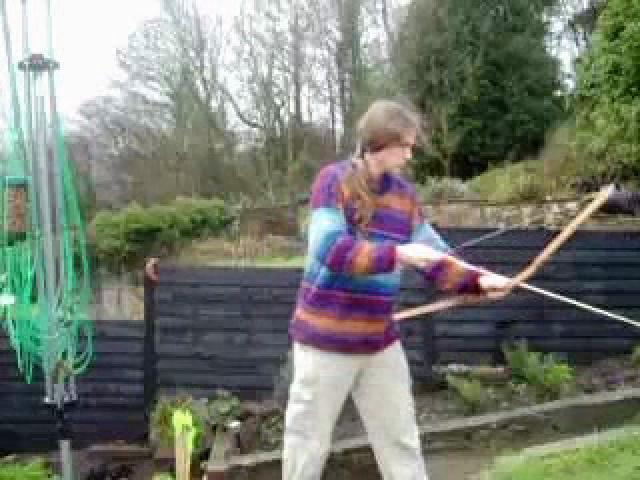I: (261, 82, 518, 480)
